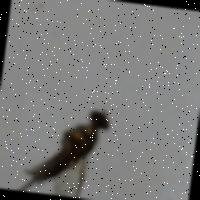Oriental-fruit-fly: (13, 91, 117, 200)
